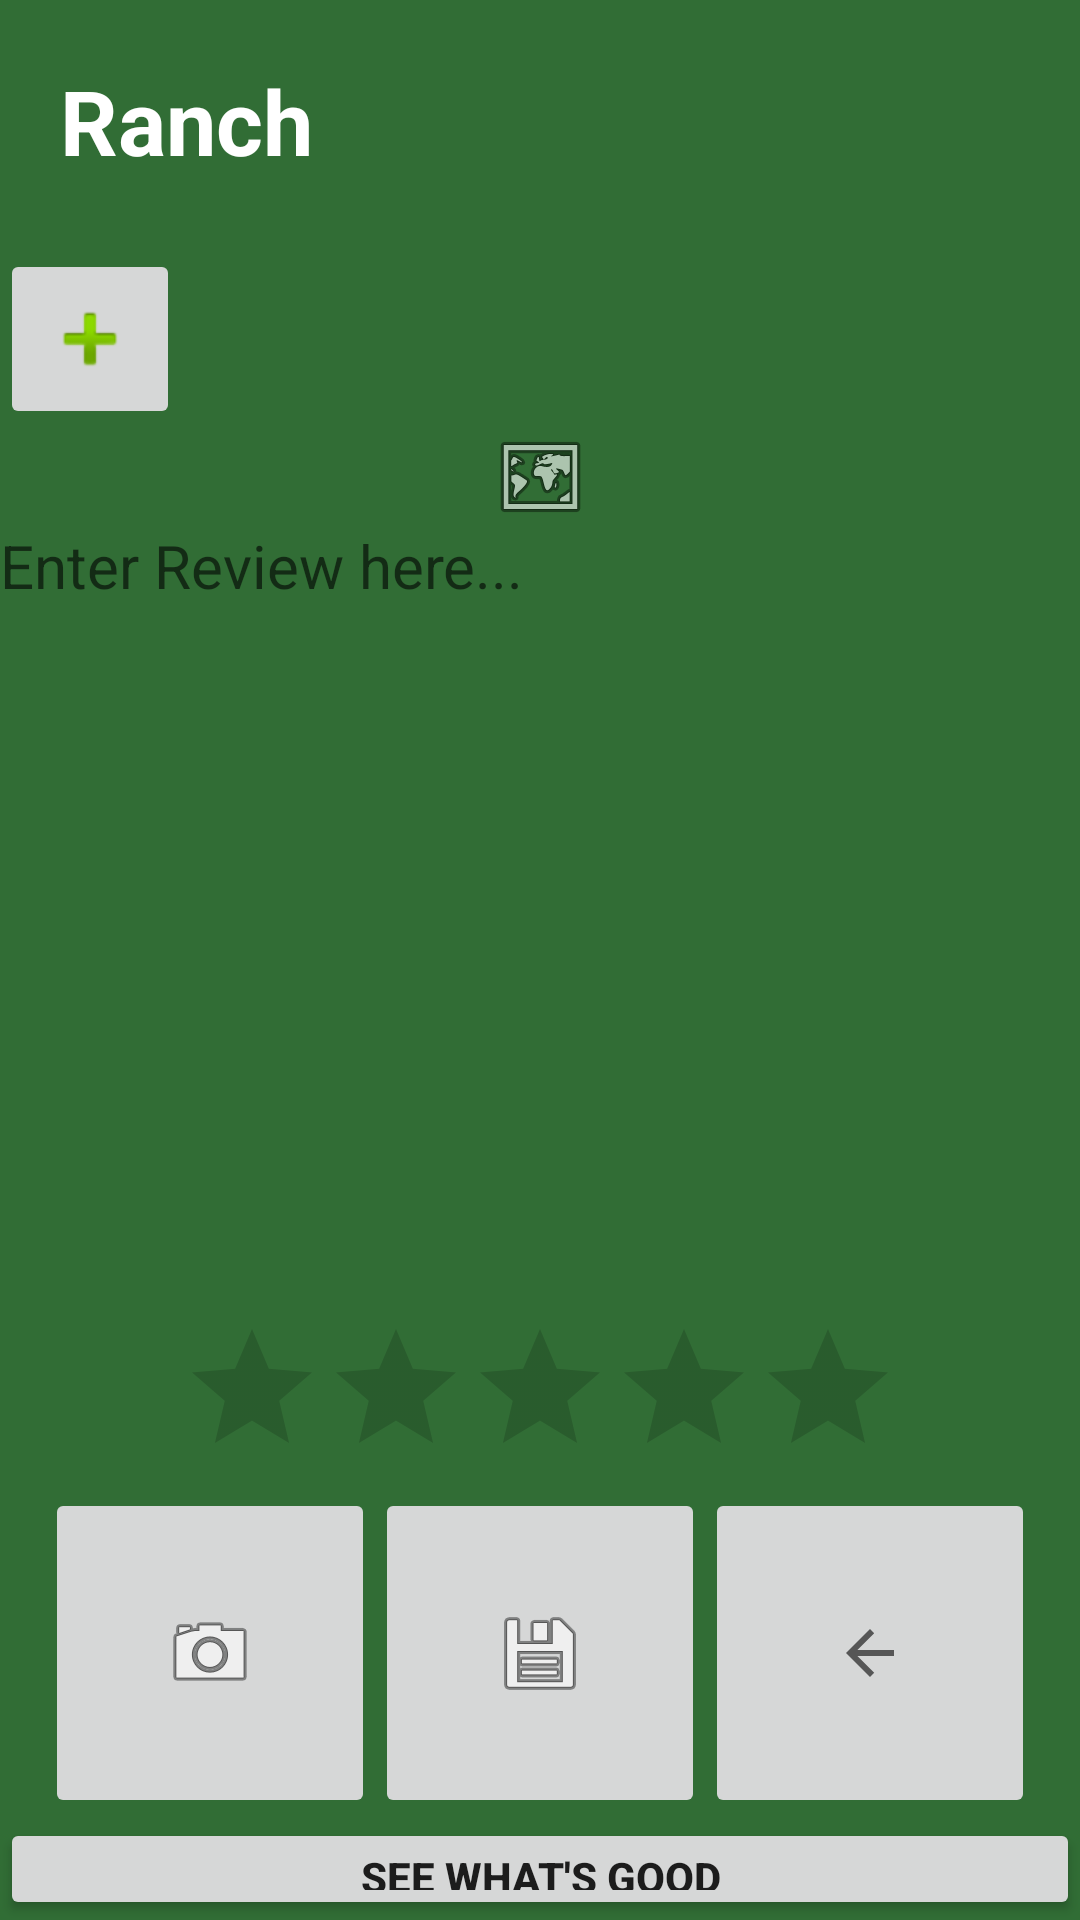

Where icons sit on this 1080 x 1920 app screen, as {"left": x1, "top": y1, "right": x2, "bottom": y2}:
add: {"left": 12, "top": 267, "right": 168, "bottom": 411}
camera: {"left": 57, "top": 1506, "right": 363, "bottom": 1800}
mapmode: {"left": 501, "top": 442, "right": 580, "bottom": 512}
save: {"left": 387, "top": 1506, "right": 693, "bottom": 1800}
